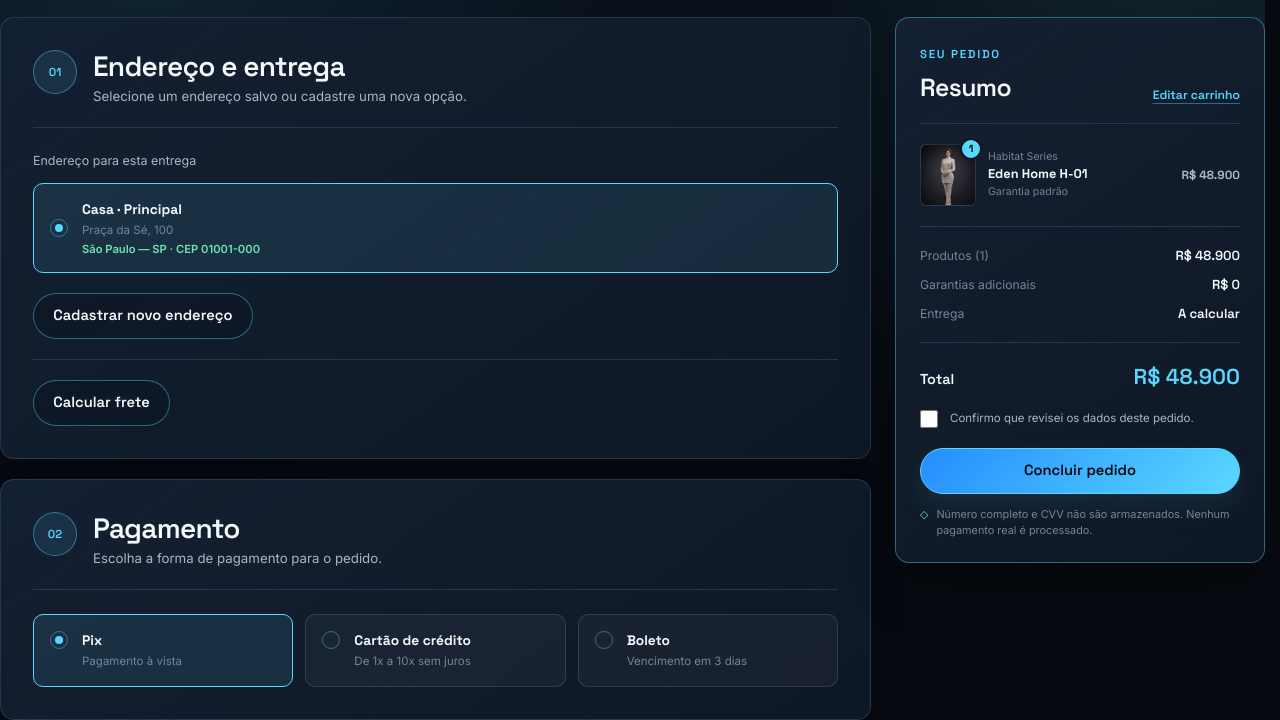
Checkout › usa o endereço salvo sem solicitar novamente dados pessoais
(page scrolled)
Expected: the radio button labelled "Casa · Principal" is checked, 33,182 -> 838,273
Expected: the text "Praça da Sé, 100" is shown, 82,222 -> 173,236
Click the button "Calcular frete". click: coordinates (102, 403)
box: 33,380 -> 170,426
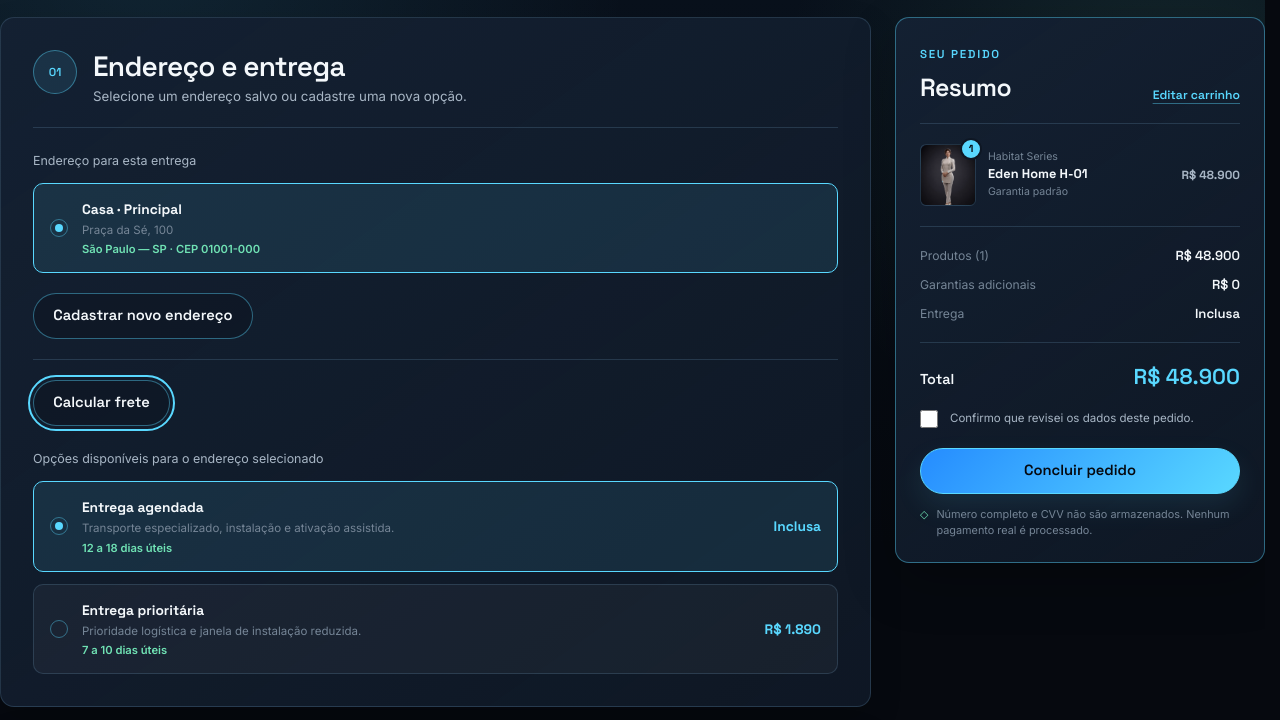
Expected: the radio button labelled "Entrega agendada" is checked, 33,481 -> 838,572
Expected: the text "12 a 18 dias úteis" is shown, 82,541 -> 172,555
